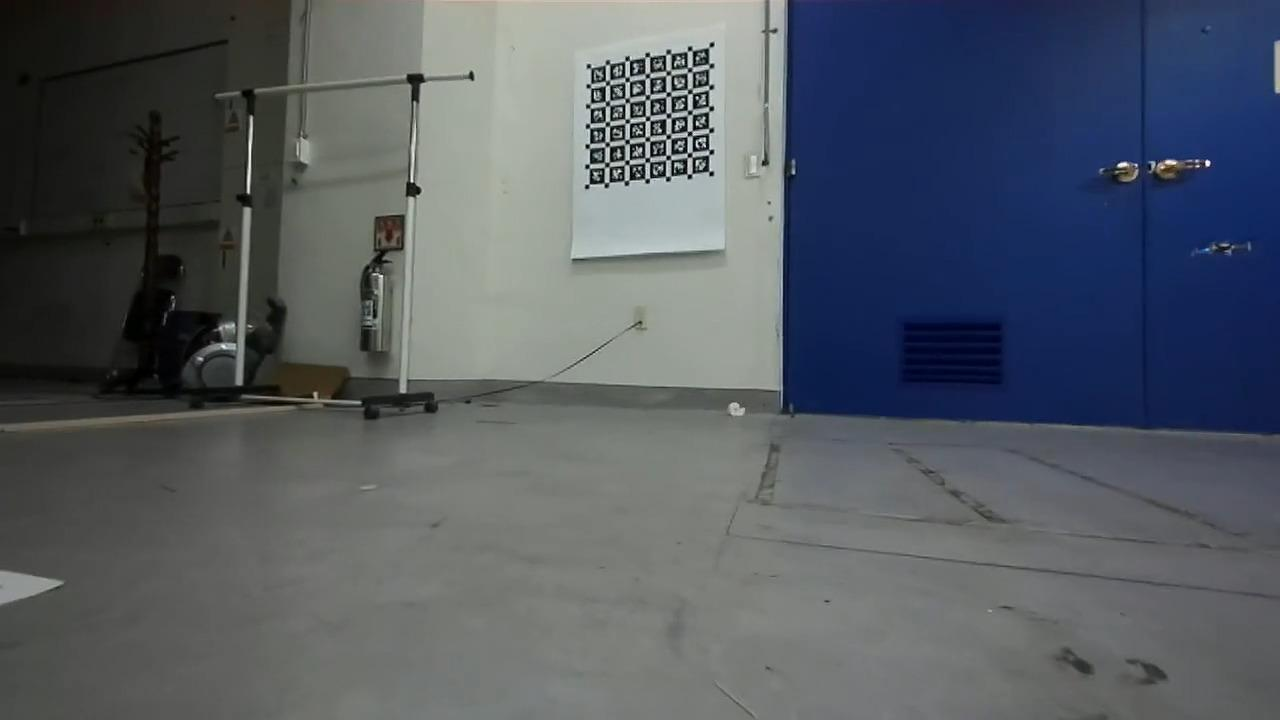crazyflie: (1184, 235, 1256, 262)
